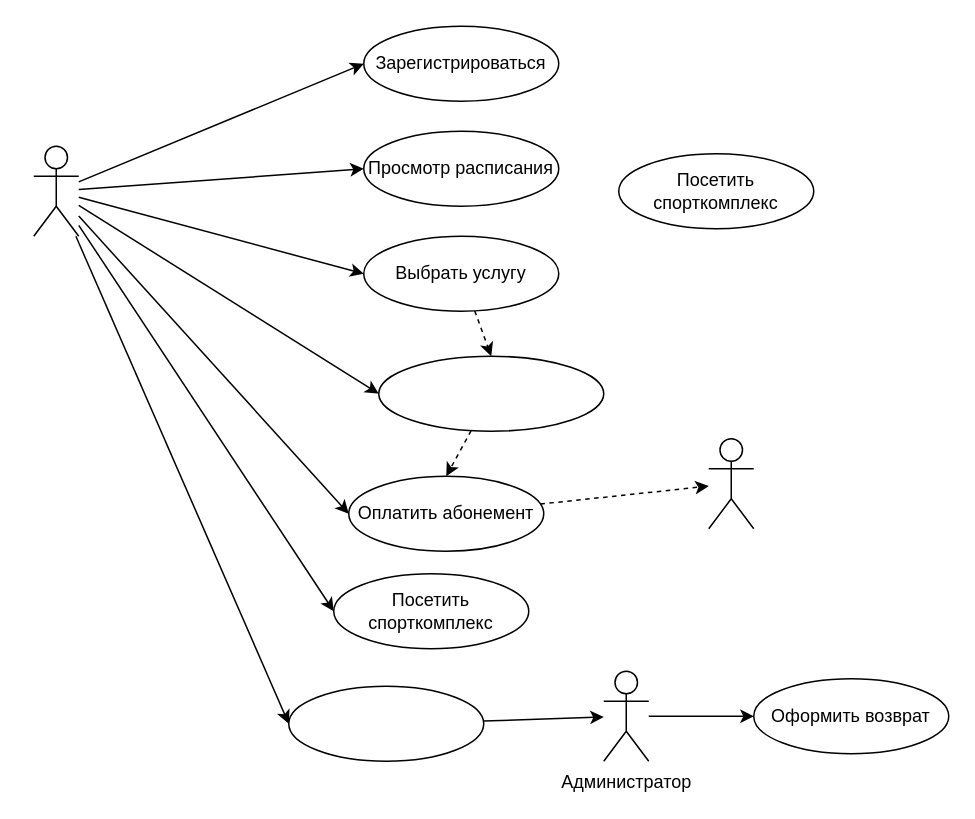
Some shapes in this 975 by 819 pixel diagram are drawn without their labels. Each missing label, with the centre of its shape:
"Записаться на занятие" belongs at (x=490, y=393).
"Клиент" belongs at (x=55, y=190).
"Отказ от абонемента" belongs at (x=385, y=723).
"Система оплаты" belongs at (x=730, y=483).
